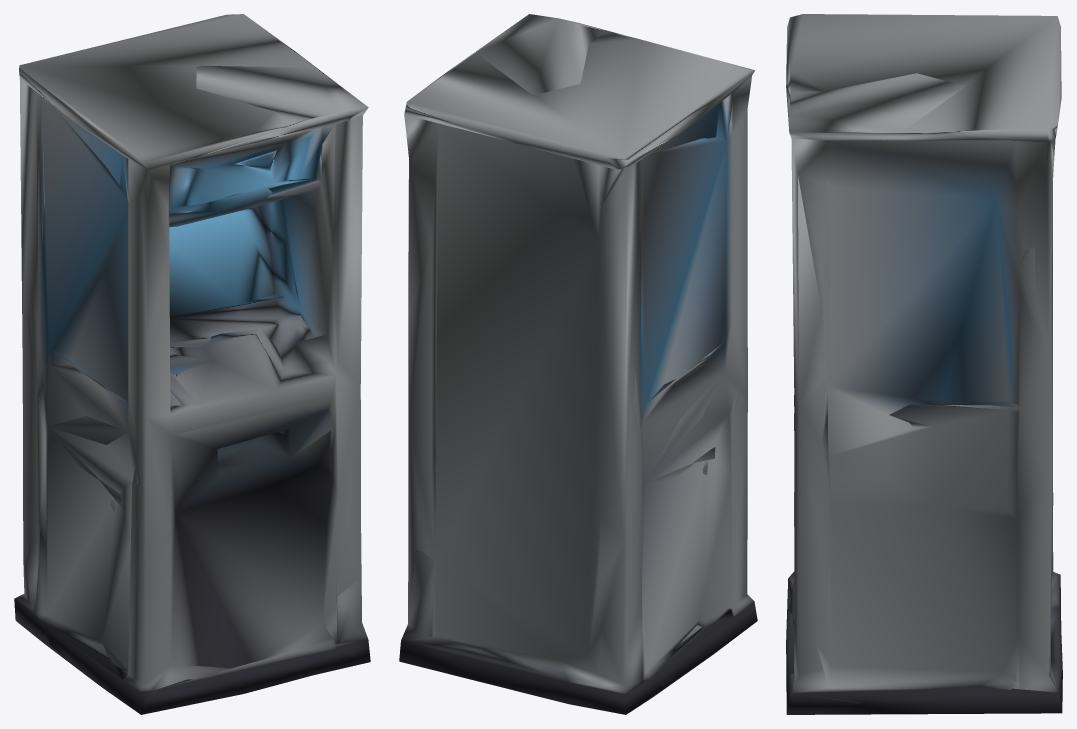
File: gen3d-atm-machine-lod1.glb
3 views of the same model, side by side, from view 1: azimuth 30°, elevation 25°; view 2: azimuth 150°, elevation 25°; view 3: azimuth 270°, elevation 25° (orthographic). The views are drawn at different scales.
Parts seen in each view (by area): view 1: part_0; view 2: part_0; view 3: part_0.
Boxes of the visible parts, x1,y1,x2,y2 form: part_0: [14, 14, 370, 714]; part_0: [399, 14, 757, 714]; part_0: [786, 14, 1062, 714].
Bounding box in the file's own units: 0.433 × 0.9996 × 0.4274.
